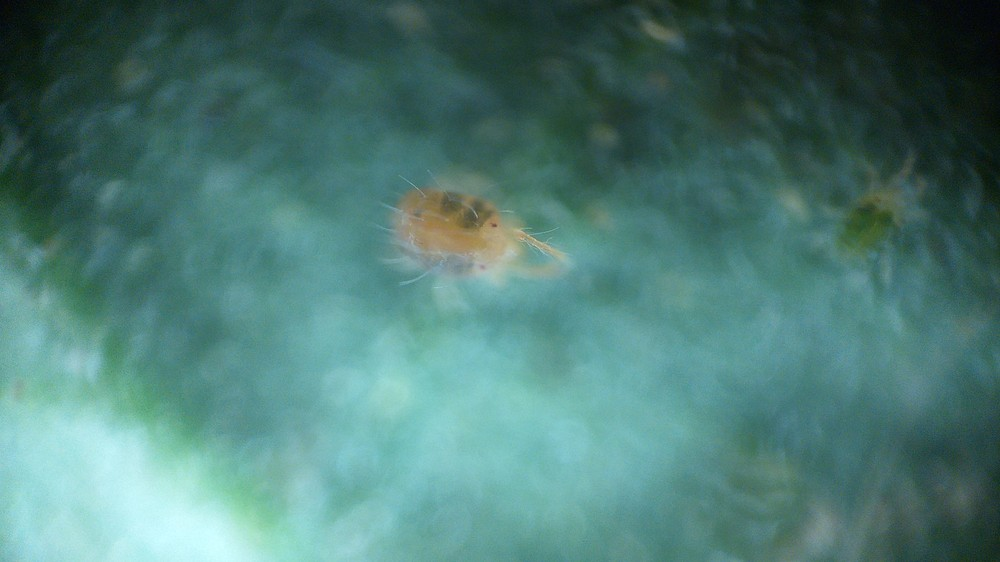Aracnido Rojo: (338, 153, 595, 314)
